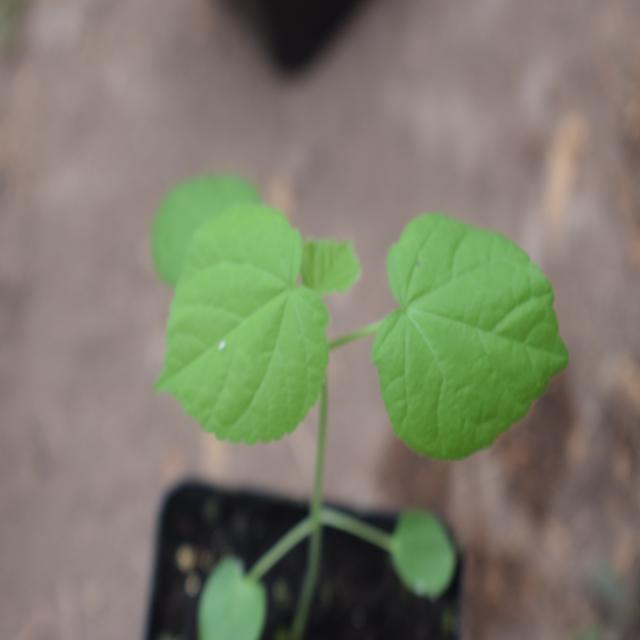abutilon theophrasti: (150, 154, 580, 505)
